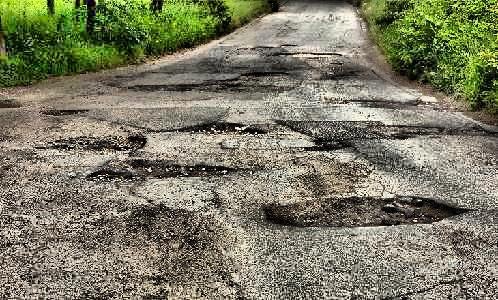pothole: (260, 193, 468, 229), (86, 157, 236, 184), (49, 134, 146, 154), (177, 121, 265, 135), (128, 81, 199, 93), (302, 137, 350, 154), (38, 106, 88, 116), (274, 51, 342, 57), (239, 70, 289, 78), (0, 99, 22, 108)
